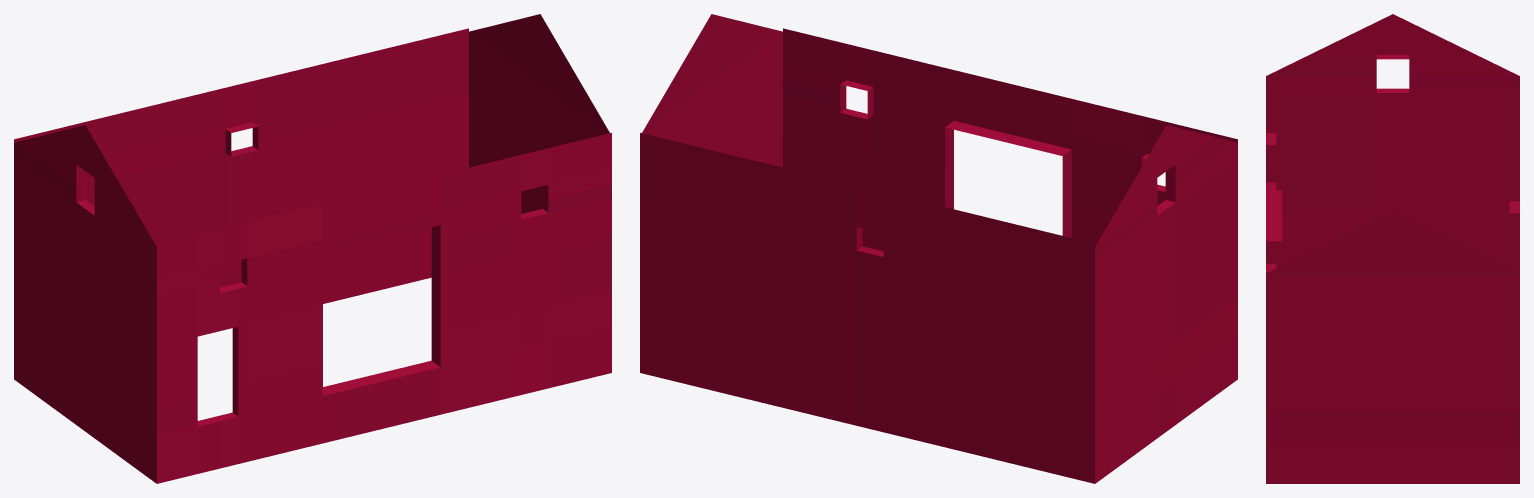
File: SM_Bld_067_Masonry.glb
3 views of the same model, side by side, from view 1: azimuth 30°, elevation 25°; view 2: azimuth 150°, elevation 25°; view 3: azimuth 270°, elevation 25° (orthographic). The views are drawn at different scales.
Visible parts, largest first — view 1: SM_Bld_067_Masonry; view 2: SM_Bld_067_Masonry; view 3: SM_Bld_067_Masonry.
Part boxes in pixels (box(x1,y1,x2,y2)): SM_Bld_067_Masonry: box(14, 14, 611, 483); SM_Bld_067_Masonry: box(640, 14, 1237, 483); SM_Bld_067_Masonry: box(1266, 14, 1519, 483).
Bounding box in the file's own units: 10.05 × 6.47 × 5.46.
